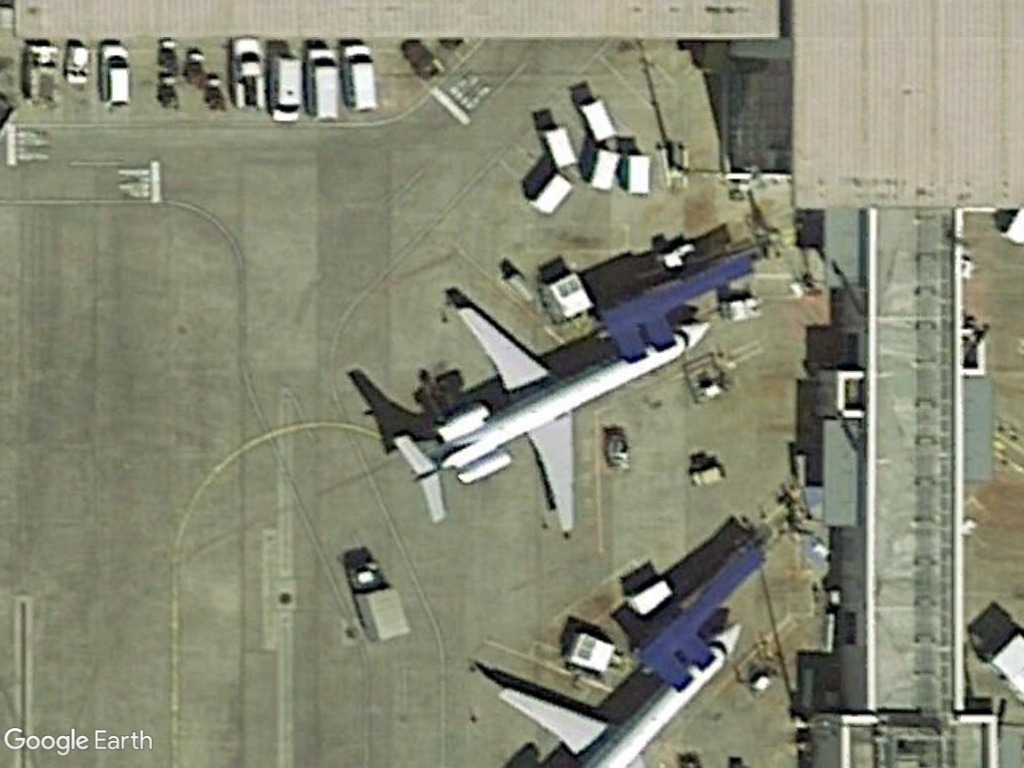car: (96, 40, 135, 115)
chartered: (387, 293, 720, 542)
van: (302, 44, 343, 128), (338, 38, 380, 117), (268, 46, 306, 128)
